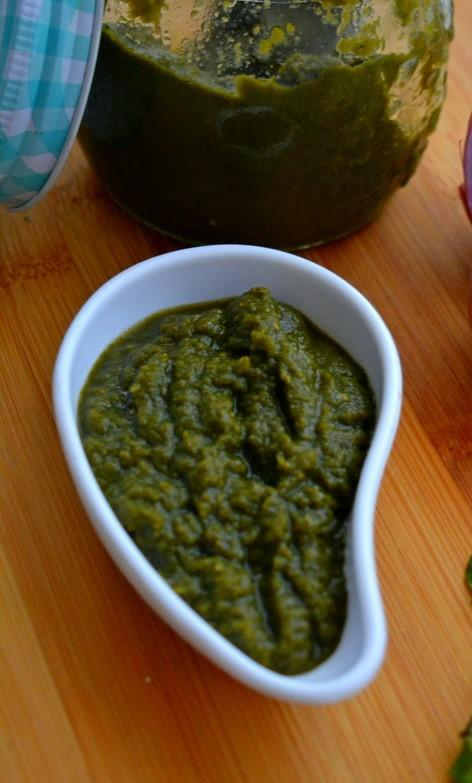GreenChutney: (81, 283, 377, 676), (77, 27, 439, 247)
